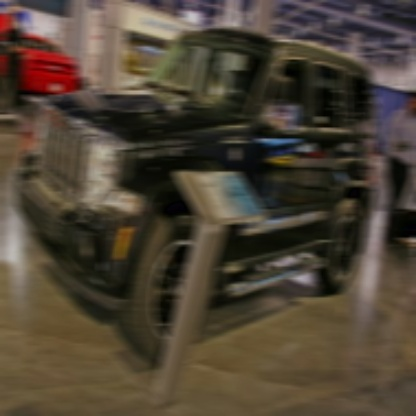Vehicle: (14, 27, 378, 366)
